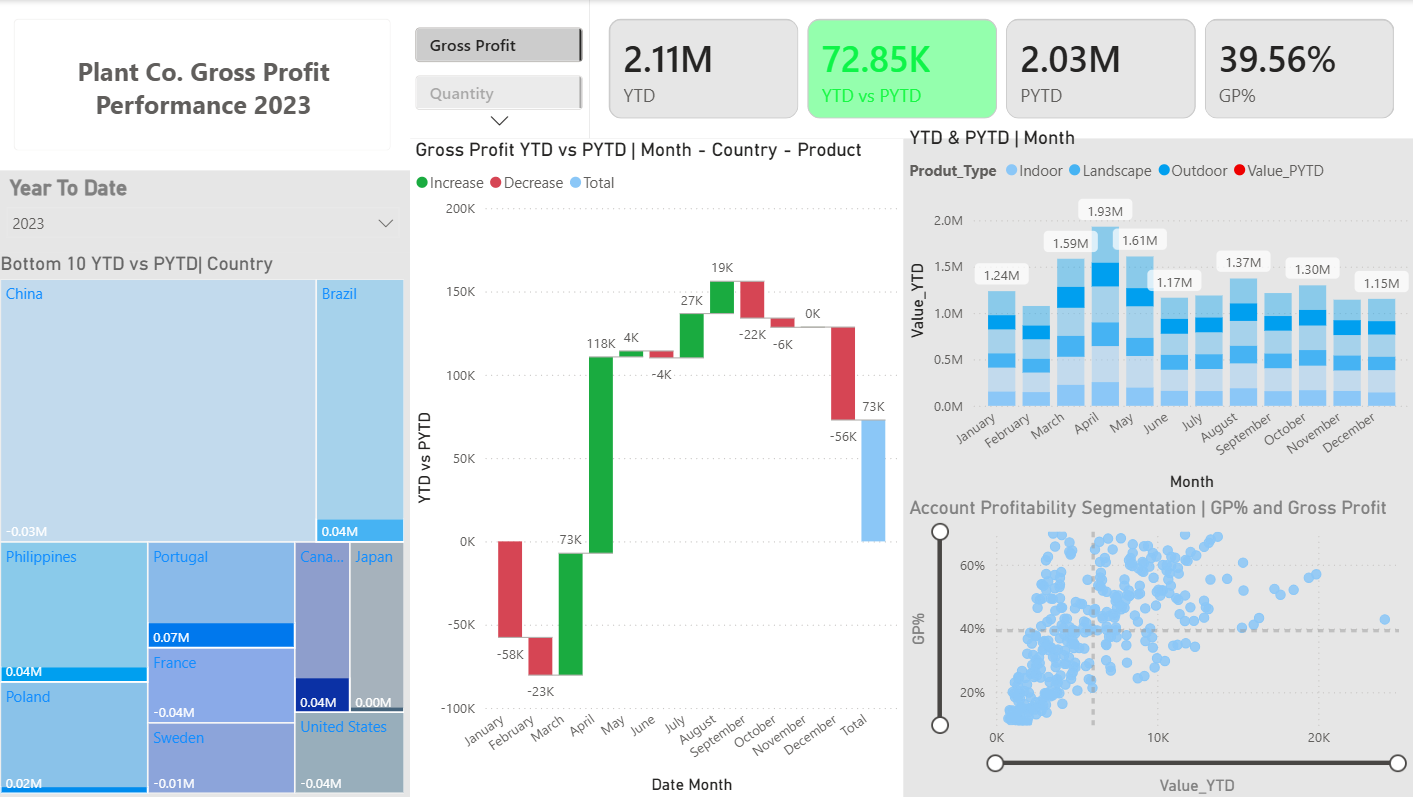

Layout of this report page (visuals, bound fields, positions):
{"tool":"powerbi","page":{"name":"Performance Report","canvas":[1280,720],"ordinal":0},"visuals":[{"type":"cardVisual","fields":{"Data":["_Measure.S_YTD","_Measure.YTD vs PYTD","_Measure.S_PYTD","_Measure.GPs"]},"box":[536.8,0,744,124.7],"z":0},{"type":"cardVisual","fields":{"Rows":["Slic_Values.values"]},"box":[374.6,0,161.9,124.9],"z":1000},{"type":"slicer","fields":{"Values":["Dim_Date.Year"]},"box":[0,153.7,374.6,74.1],"z":2000},{"type":"treemap","title":"Bottom 10 YTD vs PYTD| Country","fields":{"Group":["Dim_Account.country"],"Values":["_Measure.YTD vs PYTD"]},"box":[0,227.4,374.2,492.8],"z":3000},{"type":"waterfallChart","fields":{"Category":["Dim_Date.Date.Variation.Date Hierarchy.Month","Dim_Account.country","Dim_Product.Produt_Type","Dim_Product.Product_Name"],"Y":["_Measure.YTD vs PYTD"]},"box":[373.8,125,445,595],"z":4000},{"type":"lineStackedColumnComboChart","fields":{"Category":["Dim_Date.Date.Variation.Date Hierarchy.Quarter","Dim_Date.Date.Variation.Date Hierarchy.Month"],"Series":["Dim_Product.Produt_Type"],"Y":["_Measure.S_YTD"],"Y2":["_Measure.S_PYTD"]},"box":[819.3,113.7,461.2,333.8],"z":5000},{"type":"scatterChart","fields":{"Category":["Dim_Account.Account"],"X":["_Measure.S_YTD"],"Y":["_Measure.GPs"]},"box":[819.3,447.6,461,272.7],"z":6000},{"type":"cardVisual","fields":{"Data":["_Measure._Reoprt Title"]},"box":[0,0,374.6,153.7],"z":7000}]}

Visuals, with their boxes in screenshot pixels (x1, y1, x2, y2), scaled from the page's 1280x720 canvas onto the 1413x797 screenshot:
cardVisual - _Measure.S_YTD x _Measure.YTD vs PYTD: rect(593, 0, 1412, 138)
cardVisual - Slic_Values.values: rect(414, 0, 592, 138)
slicer - Dim_Date.Year: rect(0, 170, 414, 252)
"Bottom 10 YTD vs PYTD| Country" treemap: rect(0, 252, 413, 796)
waterfallChart - Dim_Date.Date.Variation.Date Hierarchy.Month x Dim_Account.country: rect(413, 138, 904, 796)
lineStackedColumnComboChart - Dim_Date.Date.Variation.Date Hierarchy.Quarter x Dim_Date.Date.Variation.Date Hierarchy.Month: rect(904, 126, 1412, 495)
scatterChart - Dim_Account.Account x _Measure.S_YTD: rect(904, 495, 1412, 796)
cardVisual - _Measure._Reoprt Title: rect(0, 0, 414, 170)
